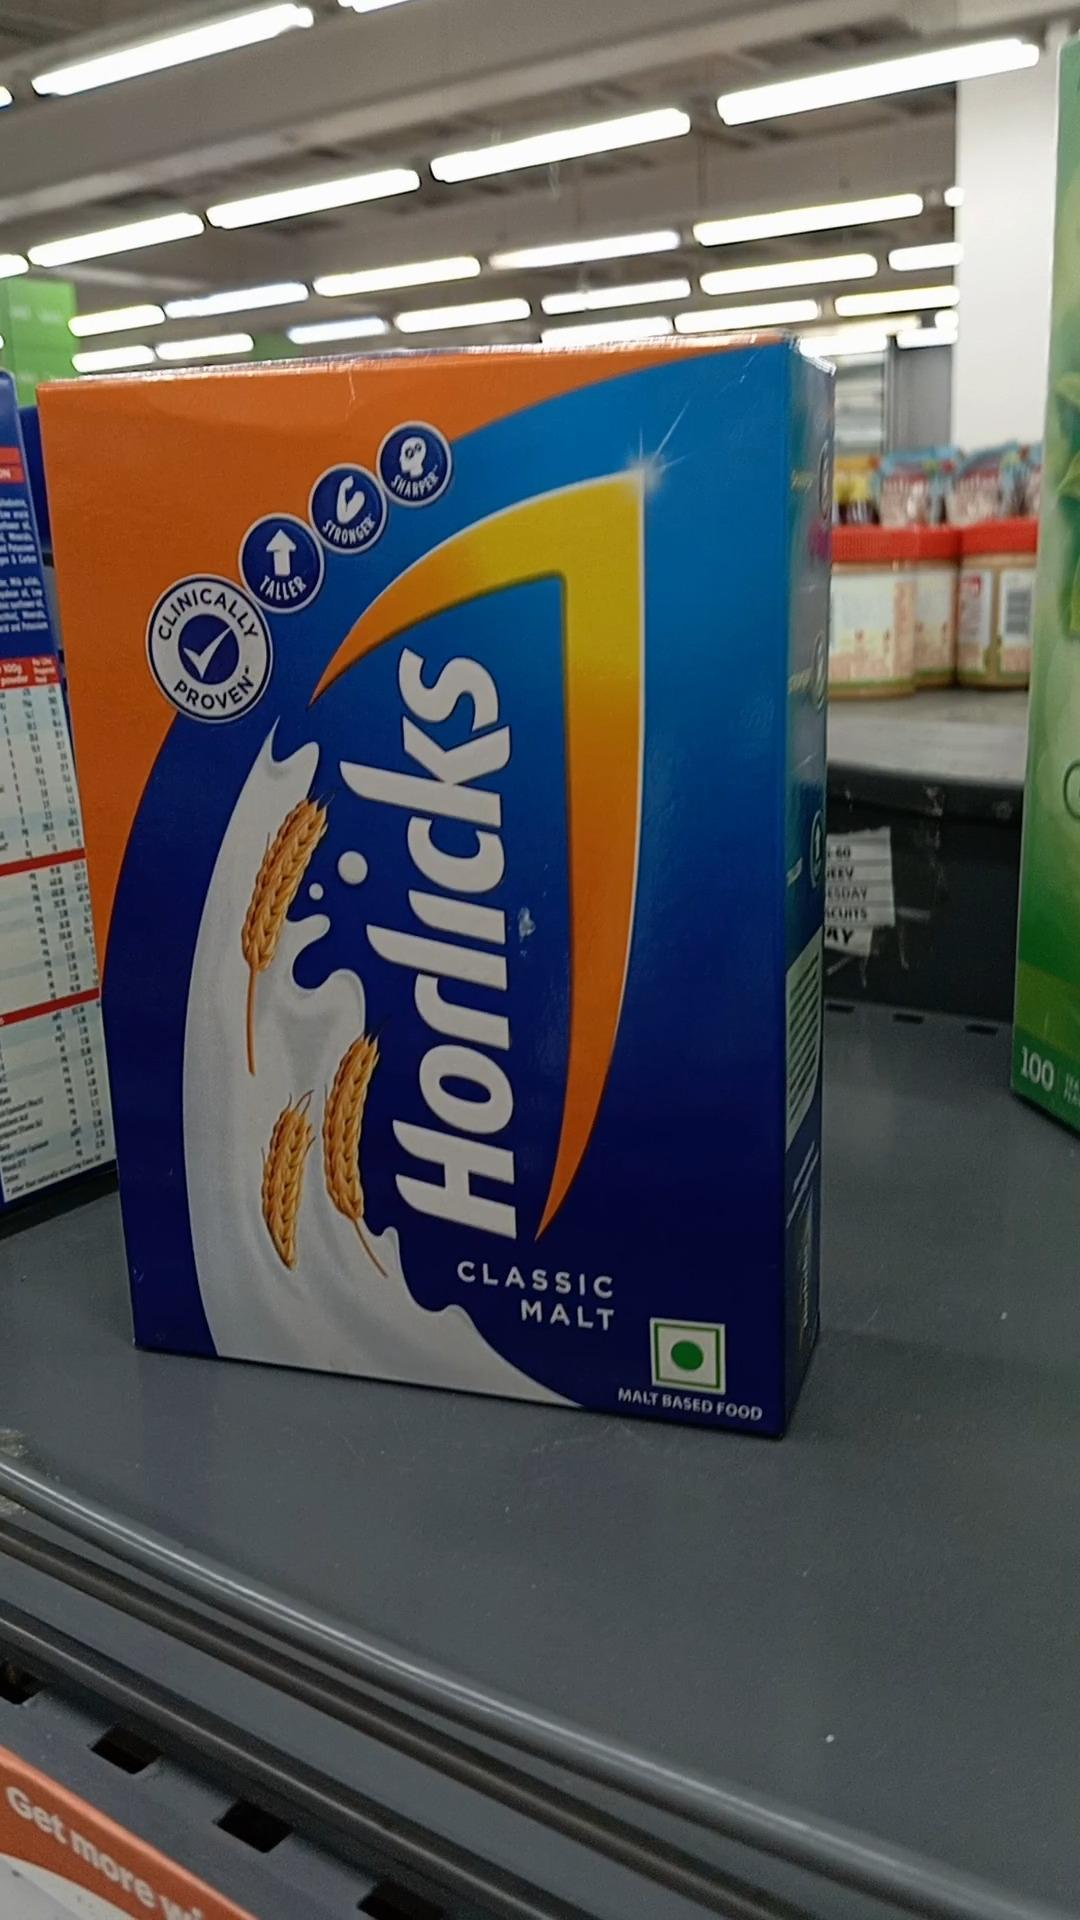HORLICK_CLASSIC_MALT_500_G_PACK: (74, 347, 781, 1433)
